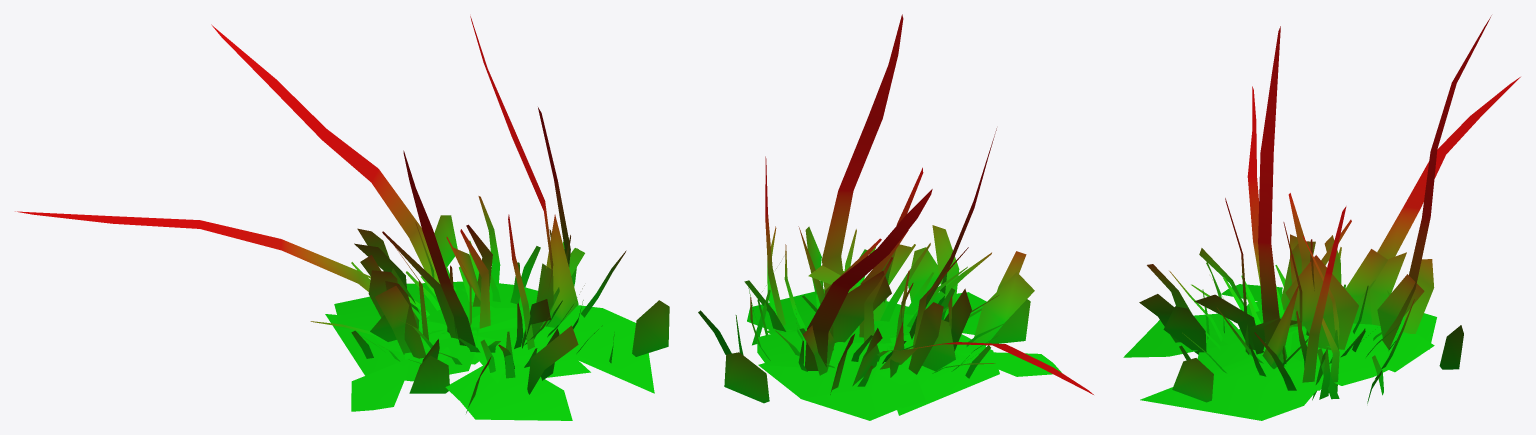
The model's file is Wild Grass_LOD2_Var11_vczndjqja.fbx.
3 renders of one model, left to right at view 1: azimuth 30°, elevation 25°; view 2: azimuth 150°, elevation 25°; view 3: azimuth 270°, elevation 25°, orthographic. The views are drawn at different scales.
Parts seen in each view (by area): view 1: _jstx_Var11_LOD2; view 2: _jstx_Var11_LOD2; view 3: _jstx_Var11_LOD2.
Part boxes in pixels (x1,y1,x2,y2): _jstx_Var11_LOD2: [15, 16, 669, 420]; _jstx_Var11_LOD2: [698, 14, 1093, 420]; _jstx_Var11_LOD2: [1123, 15, 1520, 420].
Bounding box in the file's own units: 71.57 × 49.02 × 54.33.
